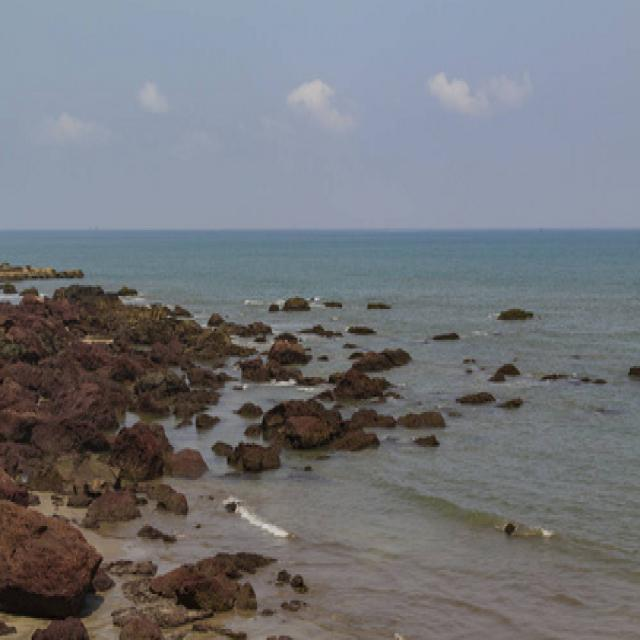reef: (184, 313, 459, 518)
